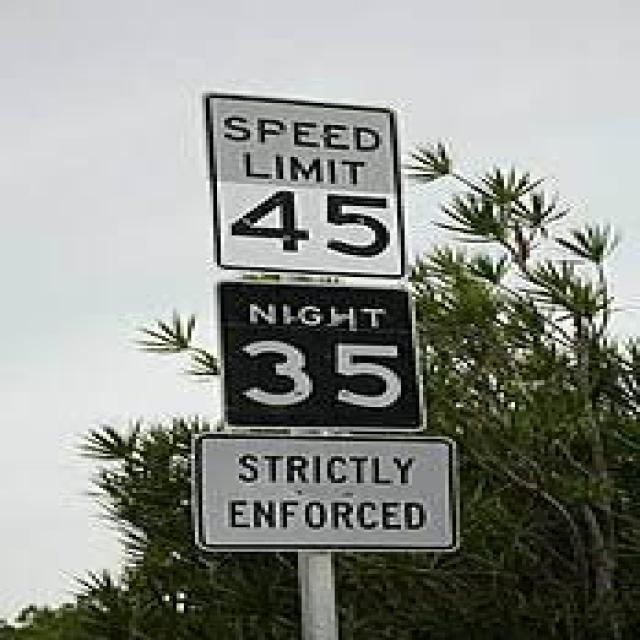speedLimit45: (202, 83, 412, 280)
